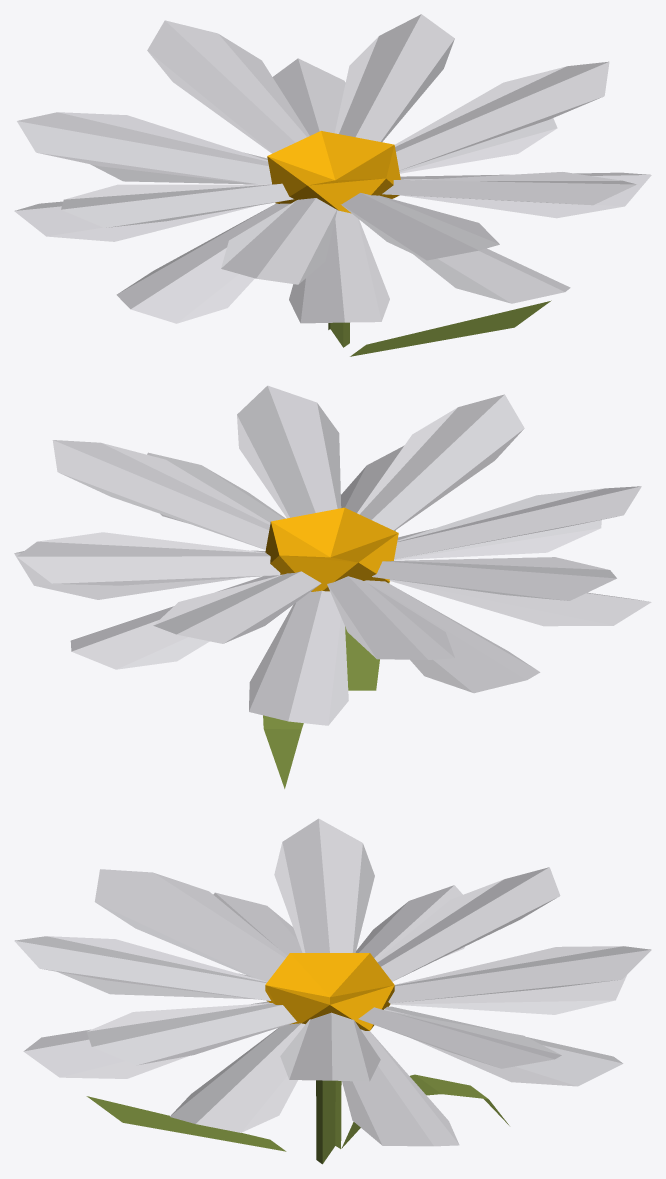
The picture shows the model from 3 angles, top to bottom: view 1: azimuth 30°, elevation 25°; view 2: azimuth 150°, elevation 25°; view 3: azimuth 270°, elevation 25°; orthographic projection.
Visible parts, largest first — view 1: 58ce34c6; view 2: 58ce34c6; view 3: 58ce34c6.
Part boxes in pixels (bbox=[...]): 58ce34c6: bbox=[14, 14, 651, 356]; 58ce34c6: bbox=[14, 385, 651, 788]; 58ce34c6: bbox=[14, 818, 651, 1164].
Size of the model in its own units: 0.0853 by 0.0313 by 0.0853.
